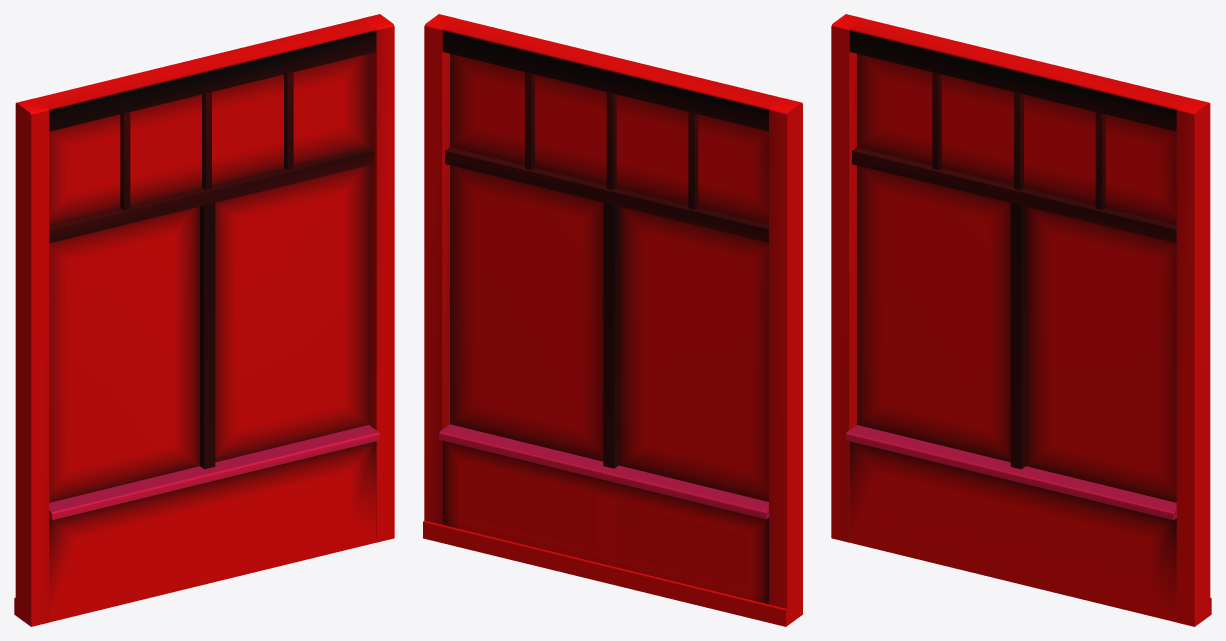
Rendered from CI_Shell_Window_Shop_2m.fbx.
The picture shows the model from 3 angles, left to right: view 1: azimuth 30°, elevation 25°; view 2: azimuth 150°, elevation 25°; view 3: azimuth 330°, elevation 25°; orthographic projection.
Visible parts, largest first — view 1: CI_Shell_Window_Shop_2m; view 2: CI_Shell_Window_Shop_2m; view 3: CI_Shell_Window_Shop_2m.
Boxes of the visible parts, <box> form: CI_Shell_Window_Shop_2m: <box>14,14,394,626</box>; CI_Shell_Window_Shop_2m: <box>423,14,802,626</box>; CI_Shell_Window_Shop_2m: <box>831,14,1211,626</box>.
Size of the model in its own units: 2 by 2.7 by 0.21.
